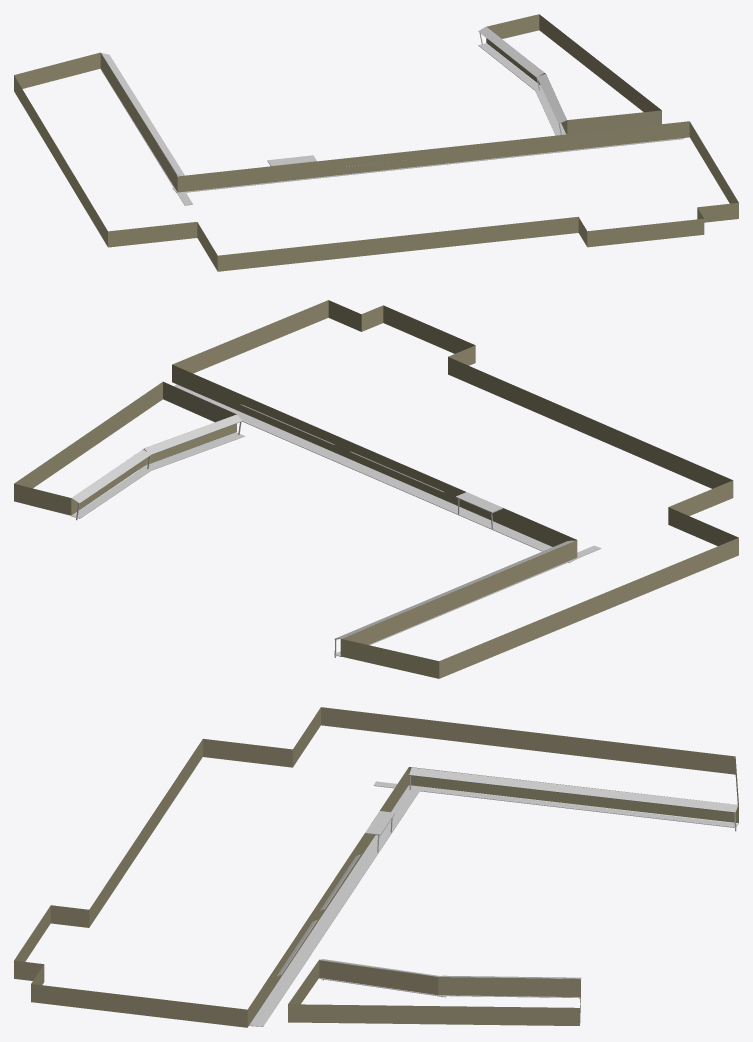
3 renders of one model, top to bottom at view 1: azimuth 30°, elevation 25°; view 2: azimuth 150°, elevation 25°; view 3: azimuth 270°, elevation 25°, orthographic. The views are drawn at different scales.
Visible parts, largest first — view 1: Building1385, Cube.005, Cube.014; view 2: Building1385, Cube.014, Cube.005; view 3: Building1385, Cube.014, Cube.005.
Part boxes in pixels (x1,y1,x2,y2): Building1385: (14, 14, 738, 271); Cube.005: (101, 26, 566, 176); Cube.014: (101, 43, 684, 205); Building1385: (14, 300, 738, 678); Cube.014: (71, 384, 601, 656); Cube.005: (71, 404, 574, 657); Building1385: (14, 707, 738, 1027); Cube.014: (249, 781, 738, 1026); Cube.005: (276, 767, 738, 998).
Bounding box in the file's own units: 26654 × 944 × 26996.
